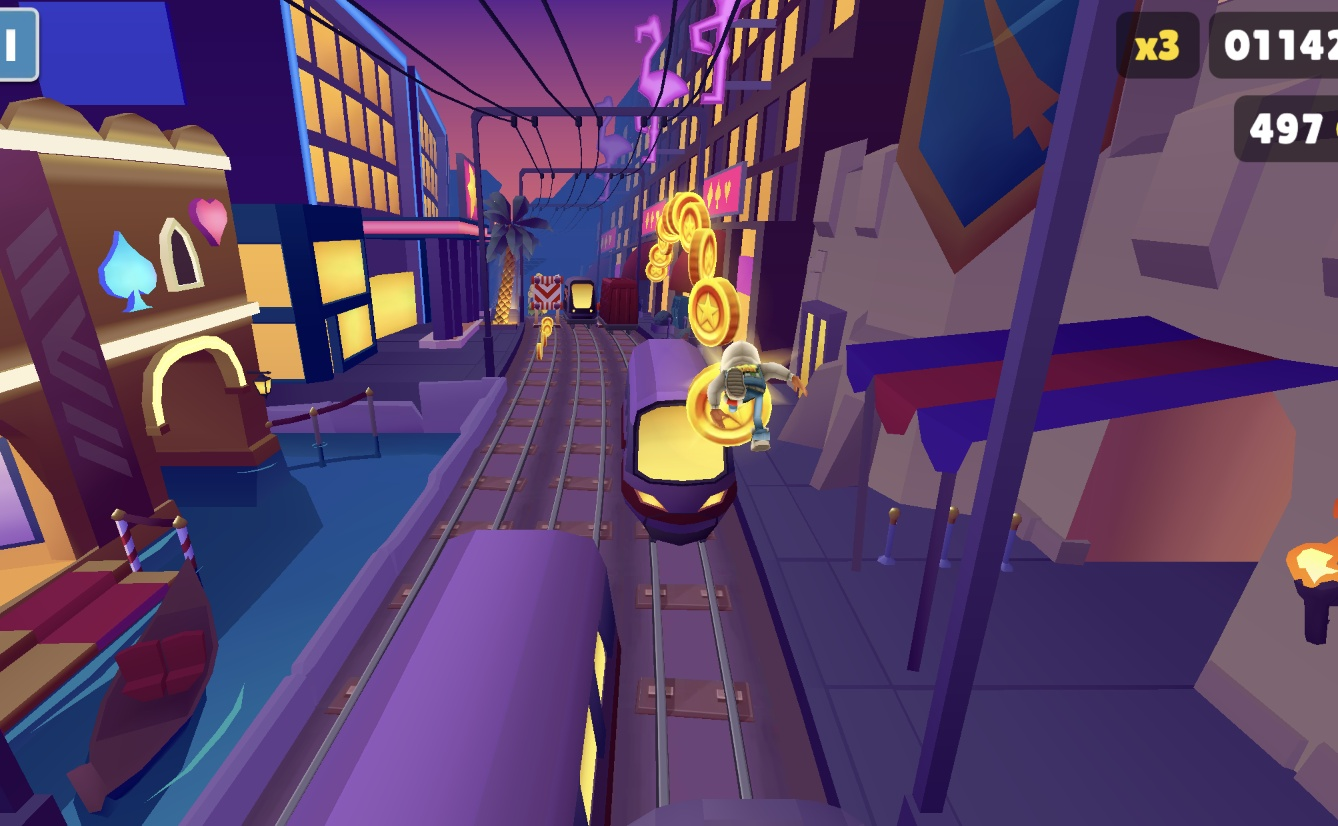overhead_barrier: (527, 270, 564, 314)
train: (334, 529, 609, 826), (617, 324, 734, 539), (567, 275, 604, 312)
